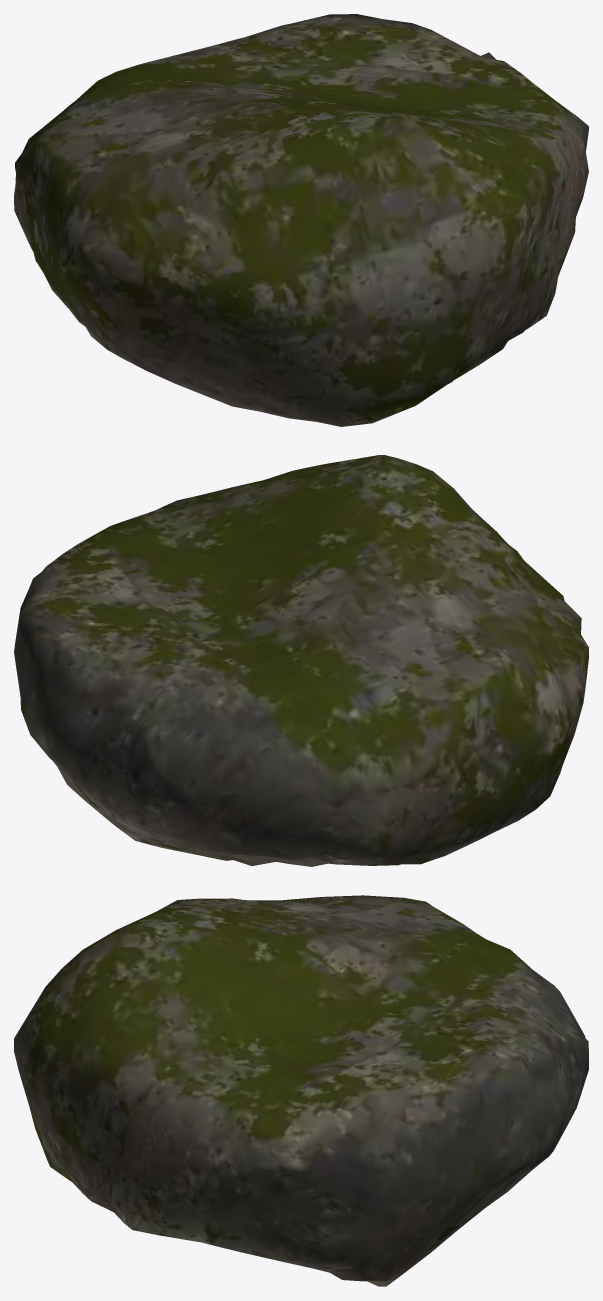
Rendered from rock2.glb.
3 views of the same model, one above another, from view 1: azimuth 30°, elevation 25°; view 2: azimuth 150°, elevation 25°; view 3: azimuth 270°, elevation 25° (orthographic). The views are drawn at different scales.
Parts seen in each view (by area): view 1: A_Set.001; view 2: A_Set.001; view 3: A_Set.001.
Part boxes in pixels (x1,y1,x2,y2): A_Set.001: (14, 14, 588, 426); A_Set.001: (14, 455, 588, 866); A_Set.001: (14, 895, 588, 1286).
Bounding box in the file's own units: 5.6 × 3.23 × 5.59.
Materials: 1 (1 with a texture image).
